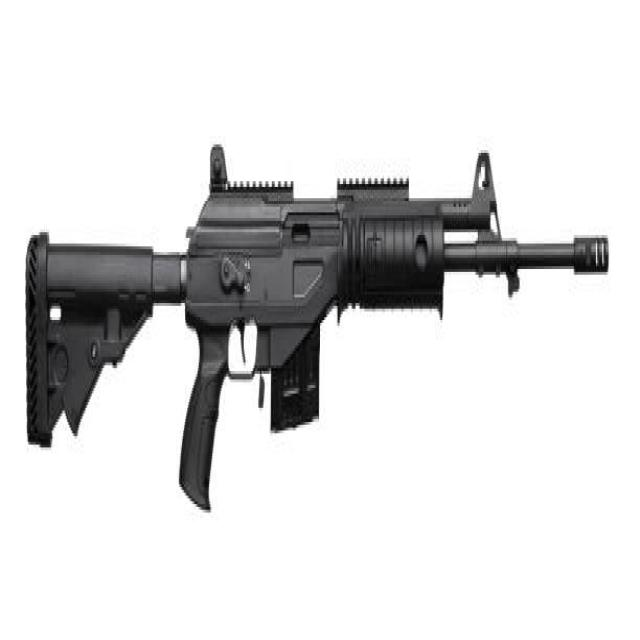rifle: (26, 144, 619, 530)
